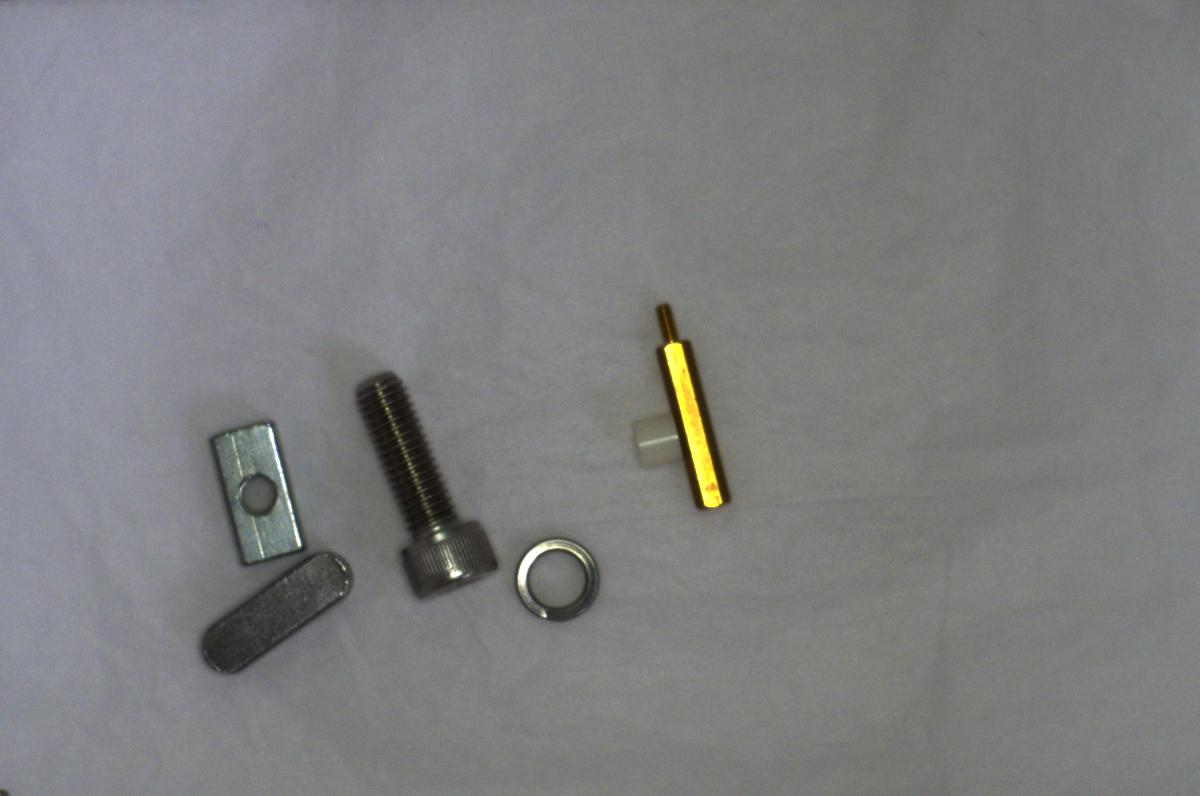Hexagon pillar: (647, 300, 734, 519)
Hexagon screw: (351, 361, 500, 598)
Keybar: (192, 539, 358, 675)
Plastic cushion pillar: (619, 405, 686, 473)
Rectangular nut: (207, 414, 312, 566)
Spring washer: (511, 527, 606, 639)
